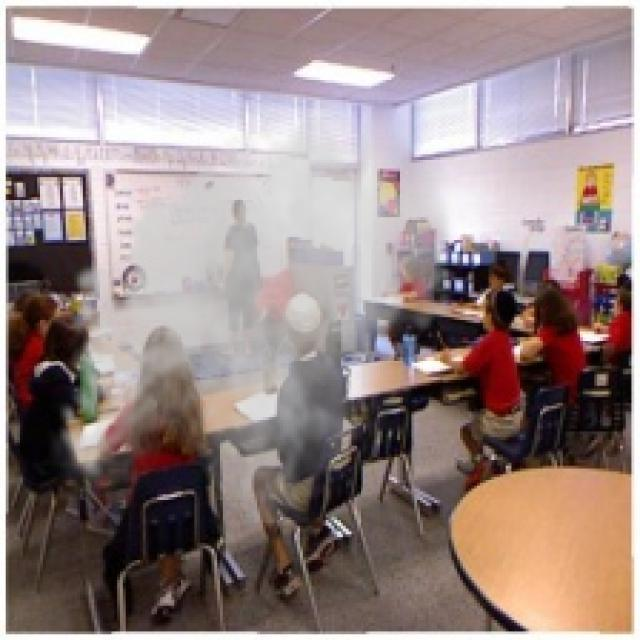Smoke: (46, 102, 460, 528)
